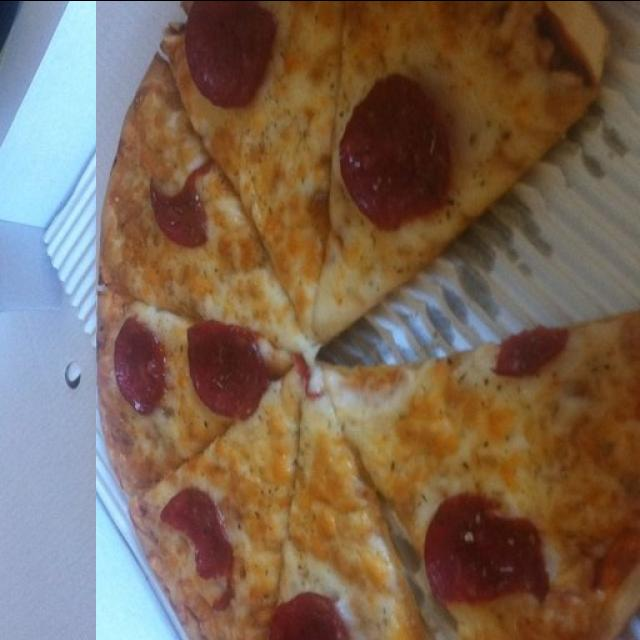pepperoni: (340, 412, 454, 568), (423, 38, 554, 150), (184, 528, 273, 640), (162, 29, 238, 155), (186, 219, 266, 319), (111, 226, 168, 319), (150, 396, 212, 478), (263, 0, 350, 47), (490, 264, 569, 315)
pizza: (96, 0, 640, 640)
